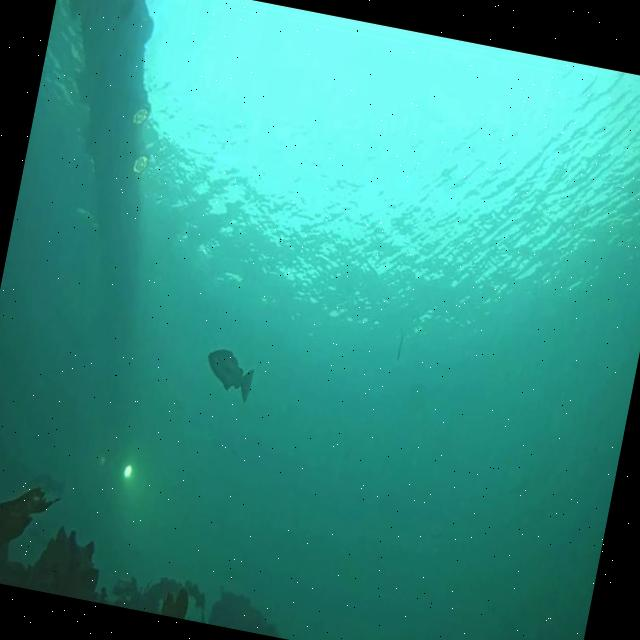fish: (202, 347, 256, 401), (24, 469, 66, 500), (396, 330, 406, 362)
